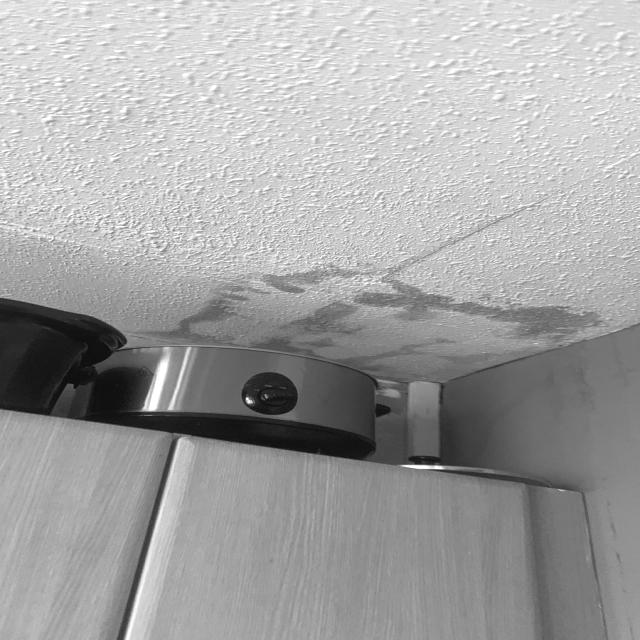stain marks: (350, 282, 638, 344), (346, 338, 550, 386), (206, 255, 396, 299), (394, 205, 544, 258), (257, 290, 356, 354), (132, 300, 257, 347)
